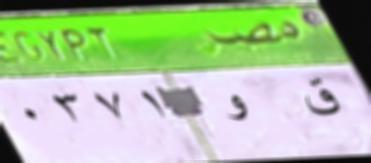0: (19, 96, 42, 133)
1: (134, 85, 166, 126)
3: (47, 88, 86, 130)
7: (94, 86, 123, 129)
qaaf: (291, 70, 345, 127)
waw: (214, 84, 258, 136)
